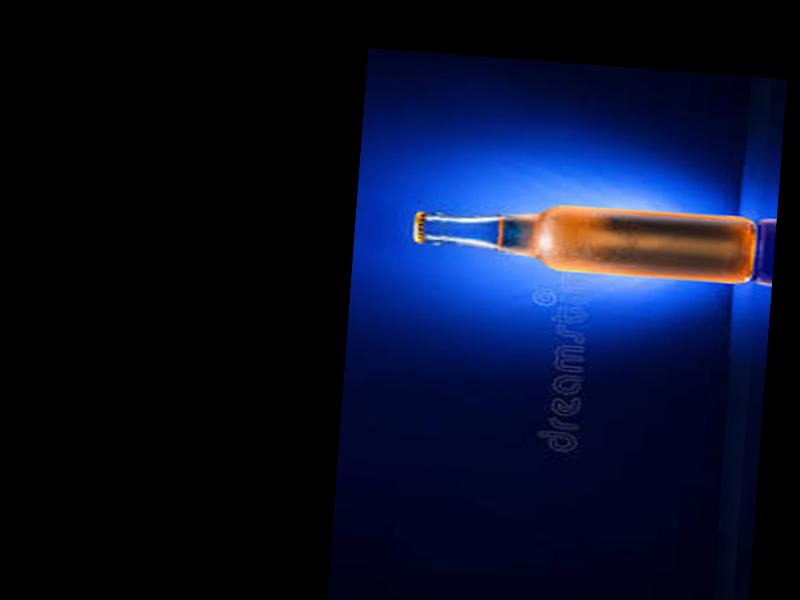Beer: (411, 189, 757, 286)
